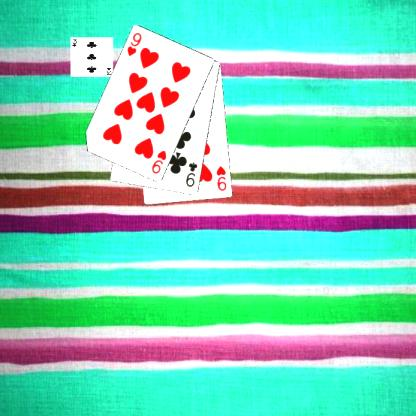9C: (183, 160, 199, 188)
9H: (149, 148, 168, 175), (125, 30, 142, 58), (214, 164, 228, 192)
